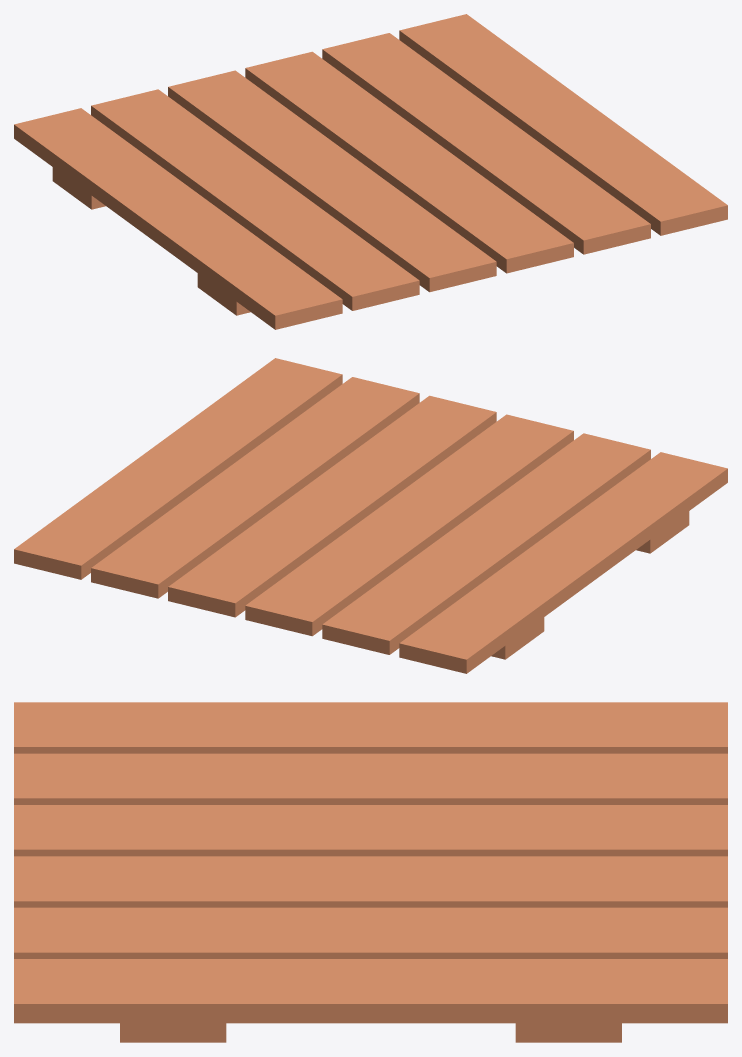
File: planks.glb
3 renders of one model, top to bottom at view 1: azimuth 30°, elevation 25°; view 2: azimuth 150°, elevation 25°; view 3: azimuth 270°, elevation 25°, orthographic. The views are drawn at different scales.
Visible parts, largest first — view 1: planks; view 2: planks; view 3: planks.
Part boxes in pixels (x1,y1,x2,y2): planks: (14,14,727,329); planks: (14,358,727,673); planks: (14,702,727,1042).
Bounding box in the file's own units: 1 × 0.06 × 1.
